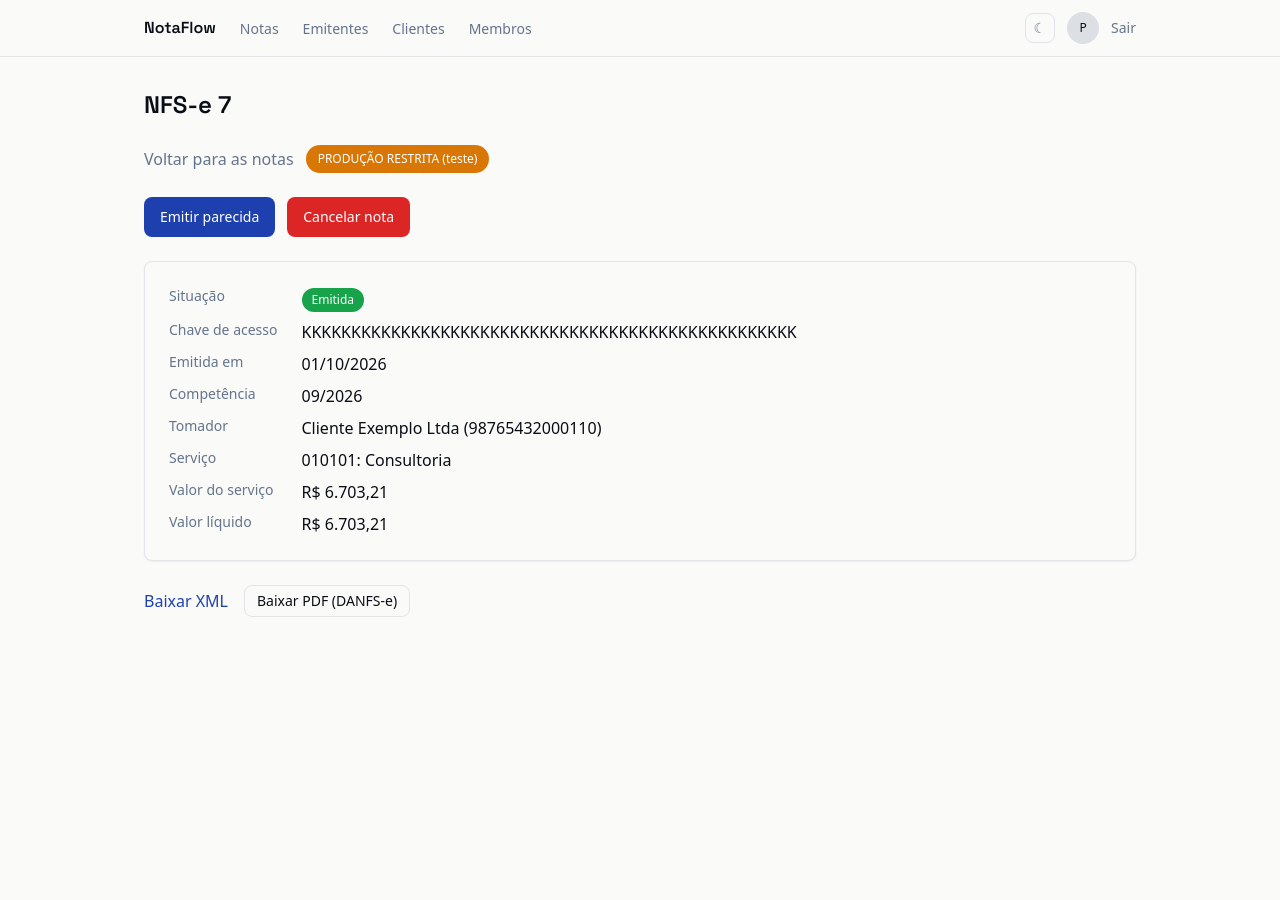
Test: an already cancelled answer says so
Click the button "Cancelar nota" at {"x": 349, "y": 217}, box [287, 197, 410, 237]
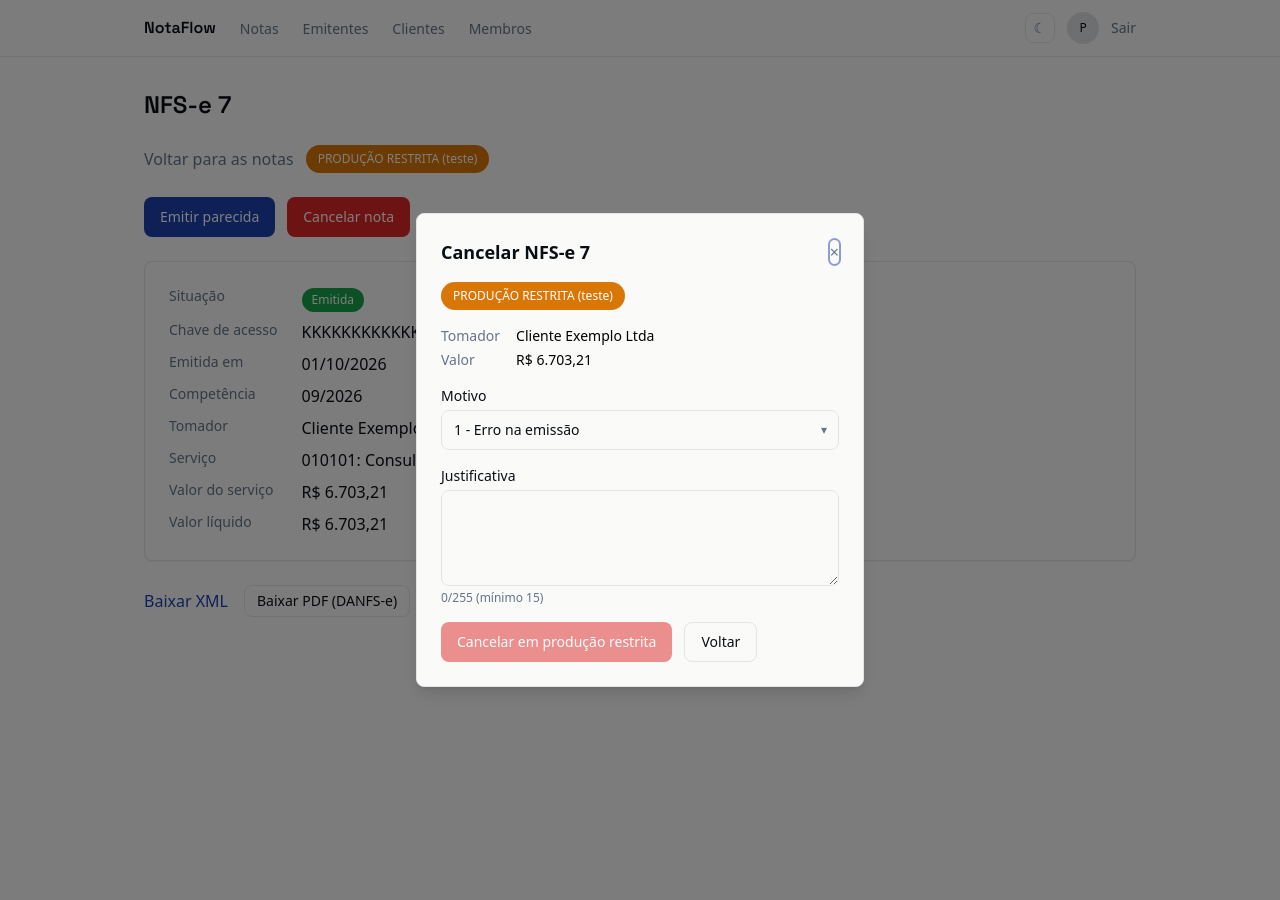
Type "Valor do serviço incorreto" into the text box labelled "Justificativa 0/255 (mínimo 15)" at {"x": 640, "y": 538}, box [441, 490, 839, 586]
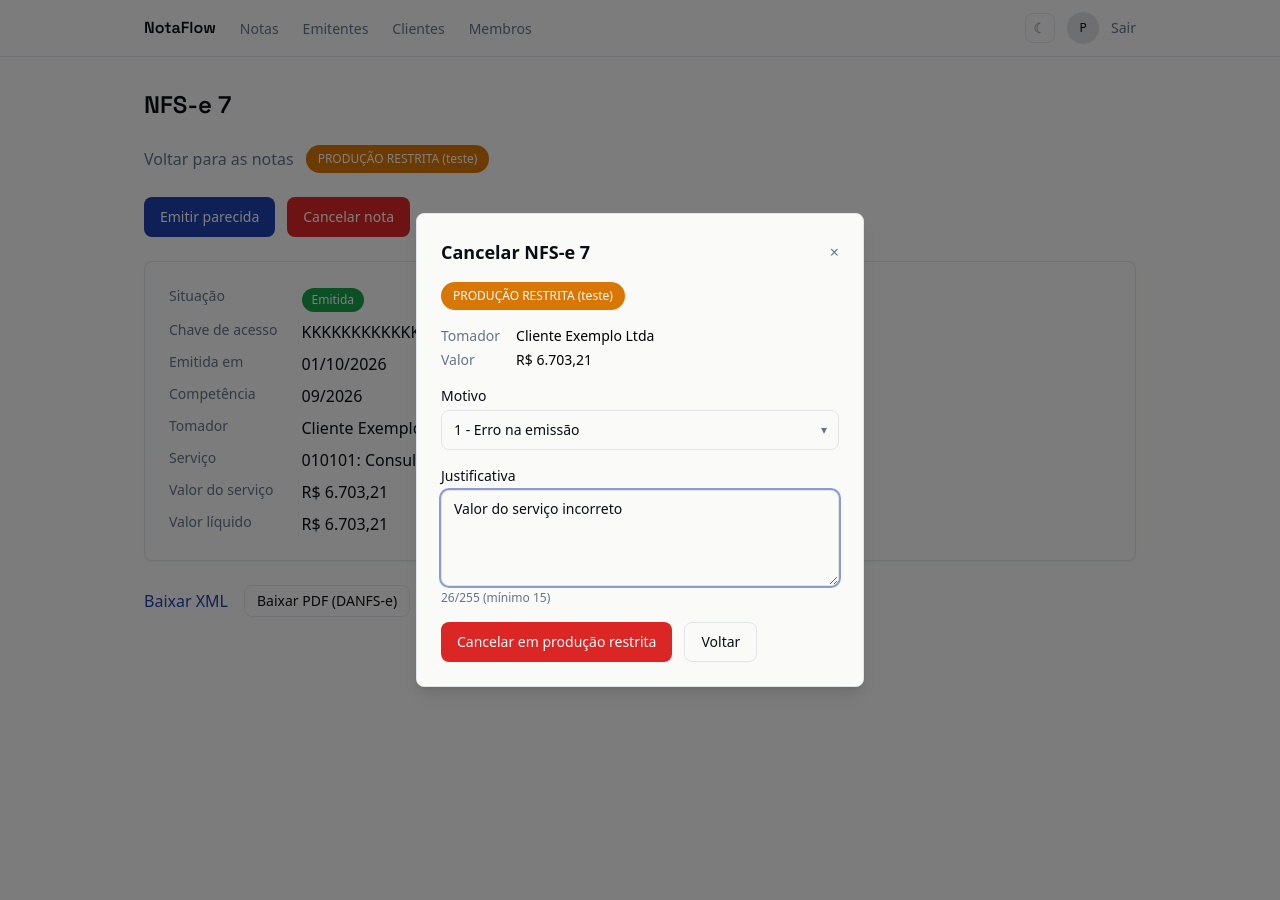
Click the button "Cancelar em produção restrita" at {"x": 557, "y": 642}, box [441, 622, 672, 662]
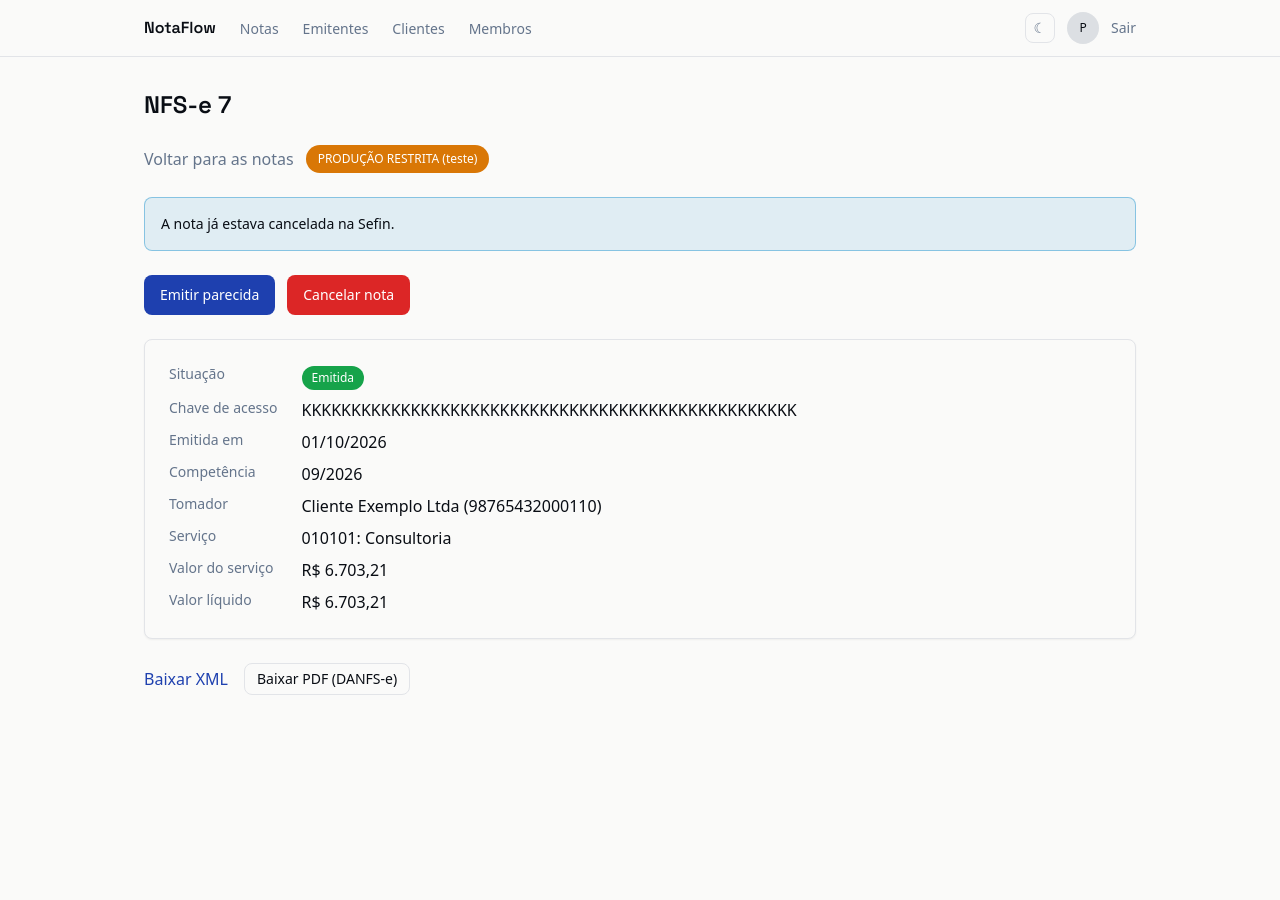
Expected: the text "A nota já estava cancelada na Sefin." is shown, [144, 197, 1136, 251]
